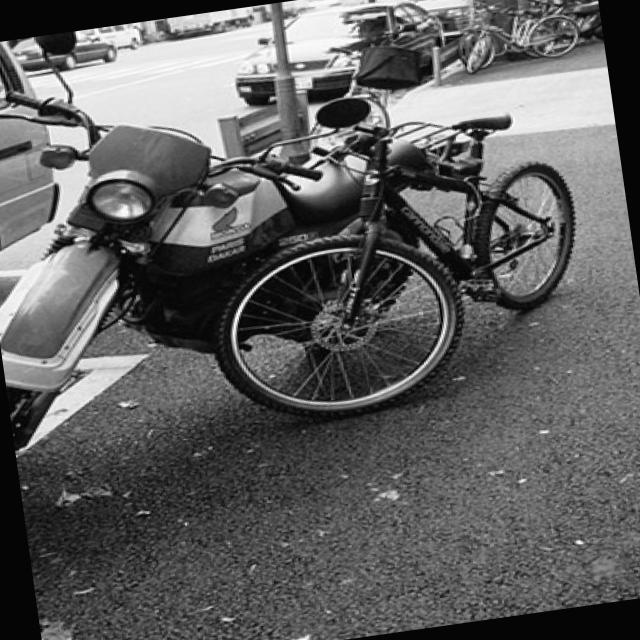Vehicle: (0, 0, 419, 496), (226, 0, 450, 108), (0, 35, 77, 272), (365, 0, 502, 44), (13, 28, 117, 76), (163, 7, 256, 42), (73, 23, 142, 58)
